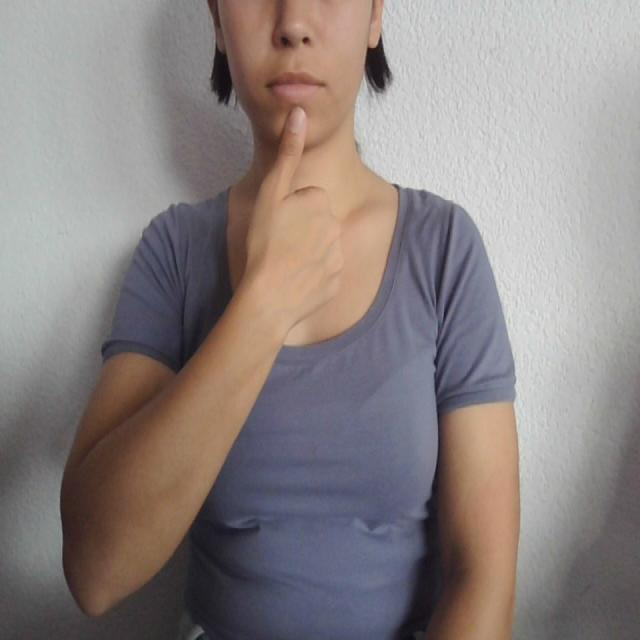Baba: (255, 55, 332, 173)
